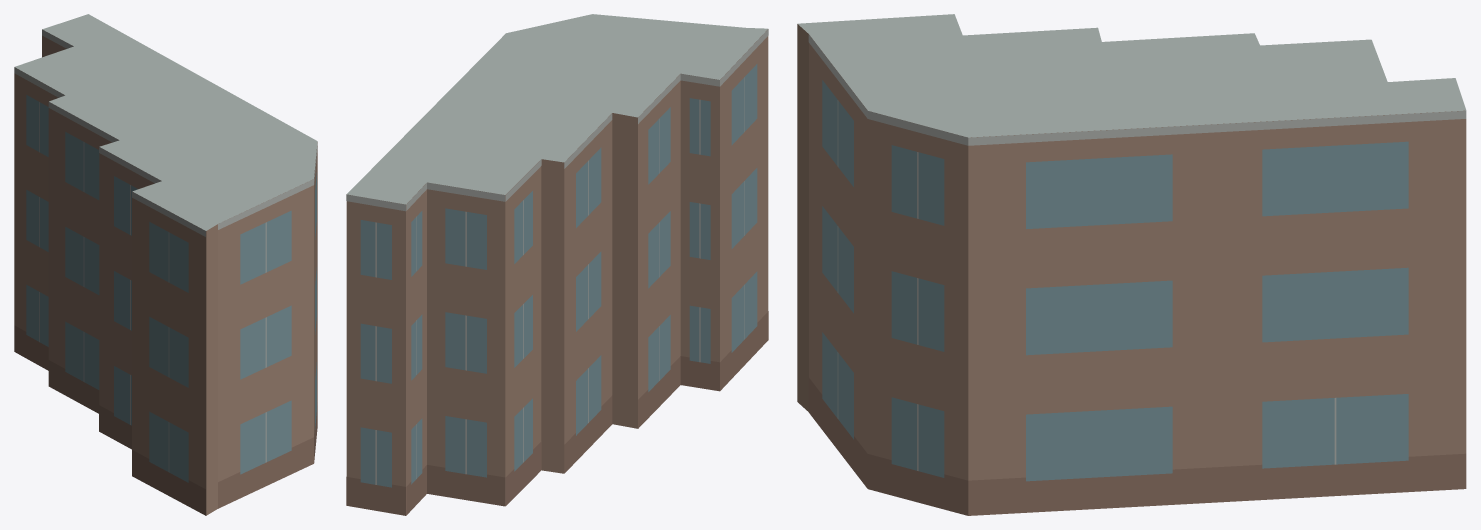
The model's file is survey-upis-32473416.glb.
The picture shows the model from 3 angles, left to right: view 1: azimuth 30°, elevation 25°; view 2: azimuth 150°, elevation 25°; view 3: azimuth 270°, elevation 25°; orthographic projection. The views are drawn at different scales.
Visible parts, largest first — view 1: survey-upis-32473416.tmp; view 2: survey-upis-32473416.tmp; view 3: survey-upis-32473416.tmp.
Part boxes in pixels (x1,y1,x2,y2): survey-upis-32473416.tmp: [14, 14, 317, 515]; survey-upis-32473416.tmp: [346, 14, 768, 515]; survey-upis-32473416.tmp: [797, 14, 1466, 515].
Bounding box in the file's own units: 7.85 × 11.2 × 17.96.
